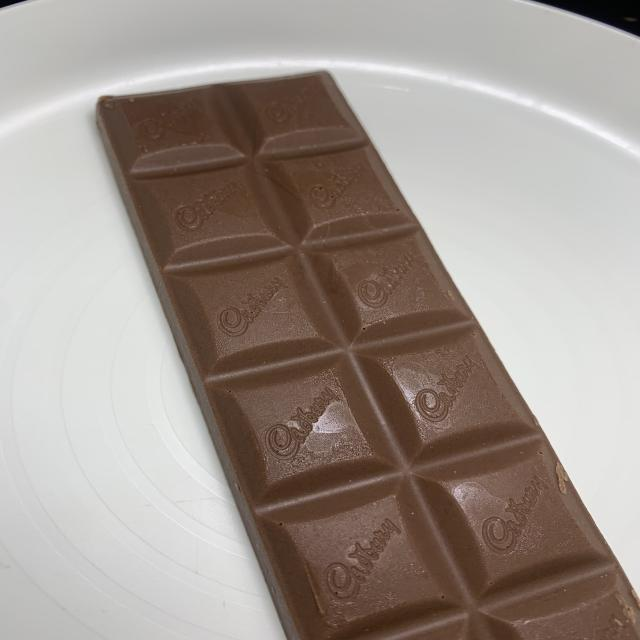Chocolate: (97, 66, 639, 640)
